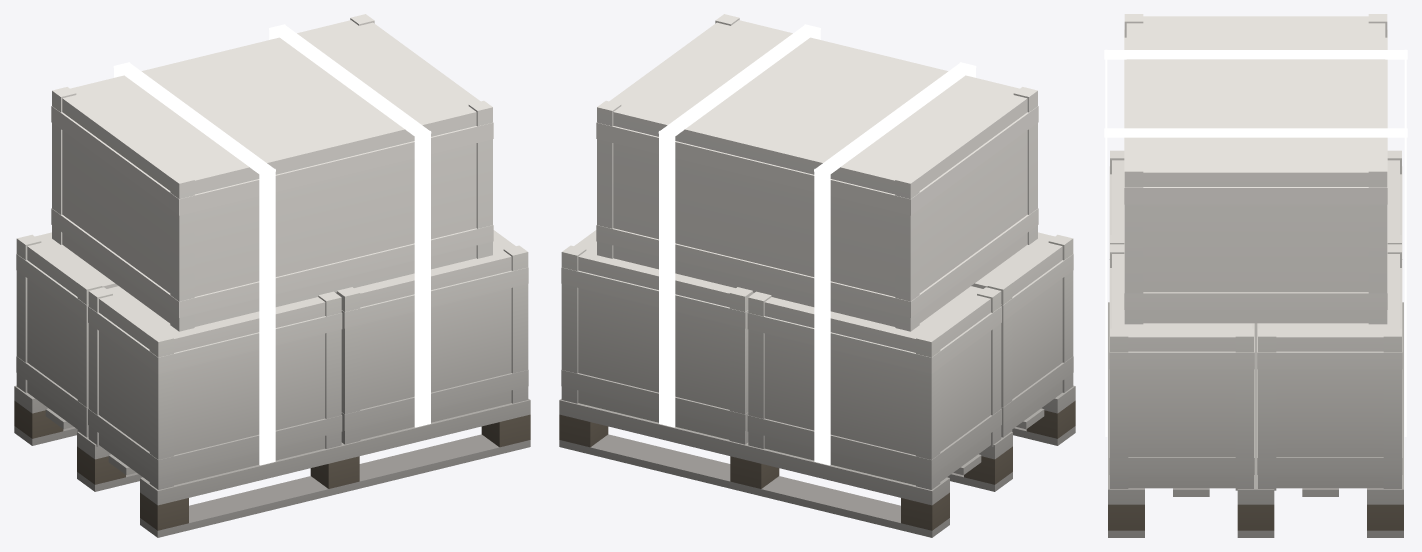
The model's file is supply_pallet.glb.
3 renders of one model, left to right at view 1: azimuth 30°, elevation 25°; view 2: azimuth 150°, elevation 25°; view 3: azimuth 270°, elevation 25°, orthographic. The views are drawn at different scales.
Visible parts, largest first — view 1: supply_pallet_LOD0; view 2: supply_pallet_LOD0; view 3: supply_pallet_LOD0.
Part boxes in pixels (x1=…): supply_pallet_LOD0: x1=14, y1=14, x2=530, y2=537; supply_pallet_LOD0: x1=559, y1=14, x2=1075, y2=537; supply_pallet_LOD0: x1=1104, y1=14, x2=1407, y2=537.
Size of what is drawn, in the model's own units: 1.2 by 1.05 by 0.82.
